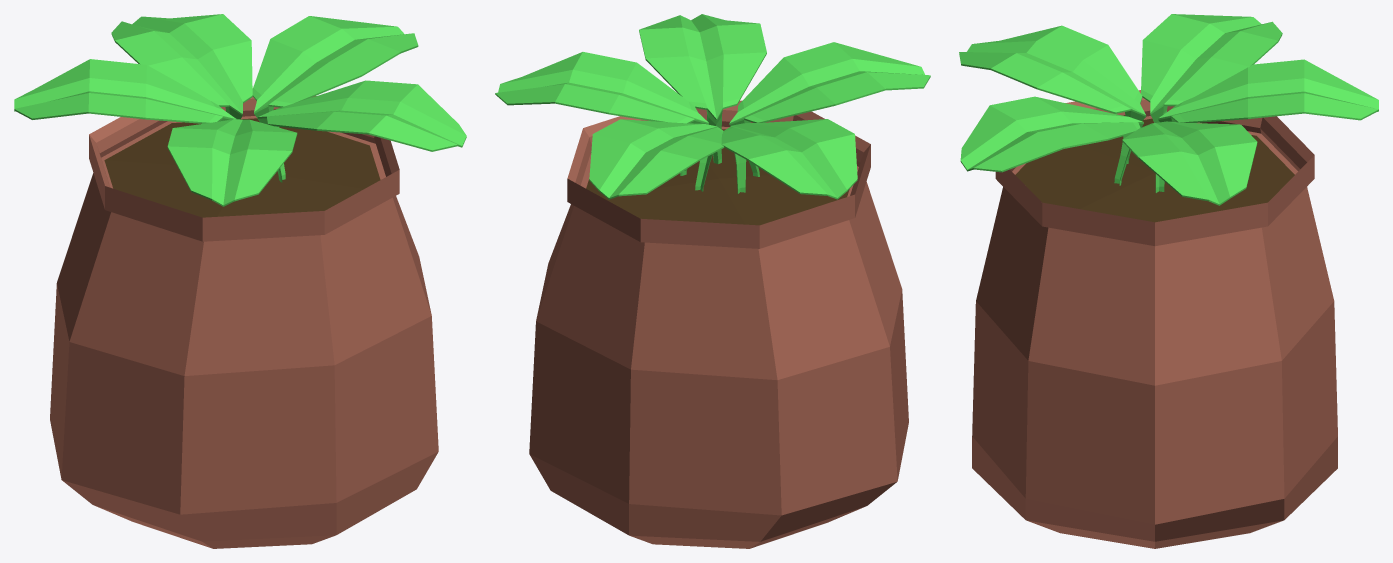
Rendered from OfficeVase.fbx.
3 renders of one model, left to right at view 1: azimuth 30°, elevation 25°; view 2: azimuth 150°, elevation 25°; view 3: azimuth 270°, elevation 25°, orthographic. The views are drawn at different scales.
Parts seen in each view (by area): view 1: FlowerPot; view 2: FlowerPot; view 3: FlowerPot.
Boxes of the visible parts, bbox=[...] form: FlowerPot: bbox=[14, 14, 466, 548]; FlowerPot: bbox=[495, 14, 930, 548]; FlowerPot: bbox=[959, 14, 1378, 548].
Bounding box in the file's own units: 238 × 247 × 229.
